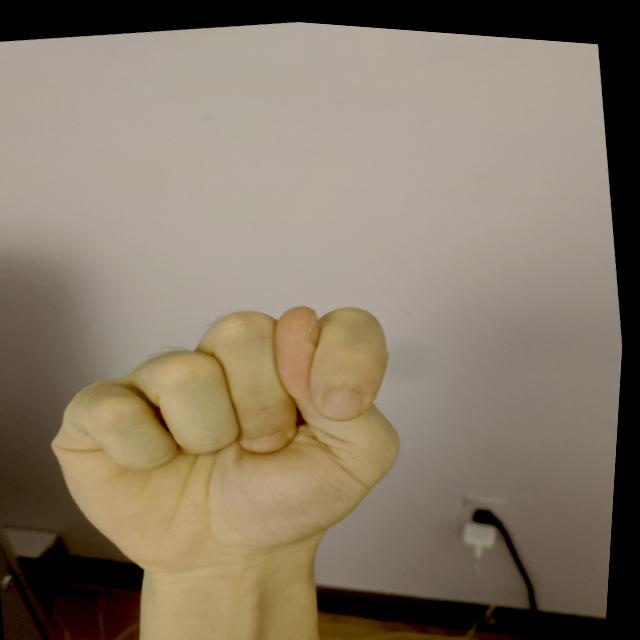T: (21, 258, 442, 608)
